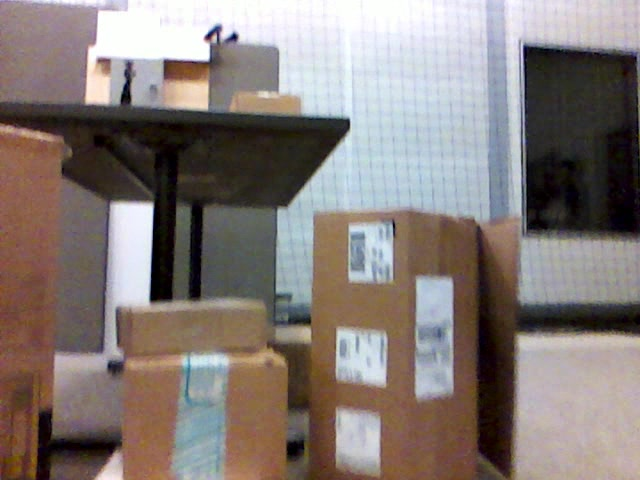box: (315, 211, 519, 480), (122, 354, 288, 480), (1, 126, 55, 480), (116, 301, 266, 354), (232, 91, 299, 113)
